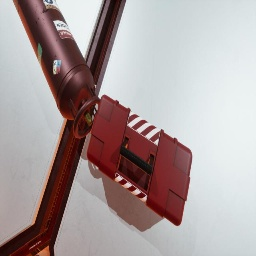FirstAidBox ,: (87, 94, 192, 226)
NitrogenTank ,: (12, 0, 100, 139)
